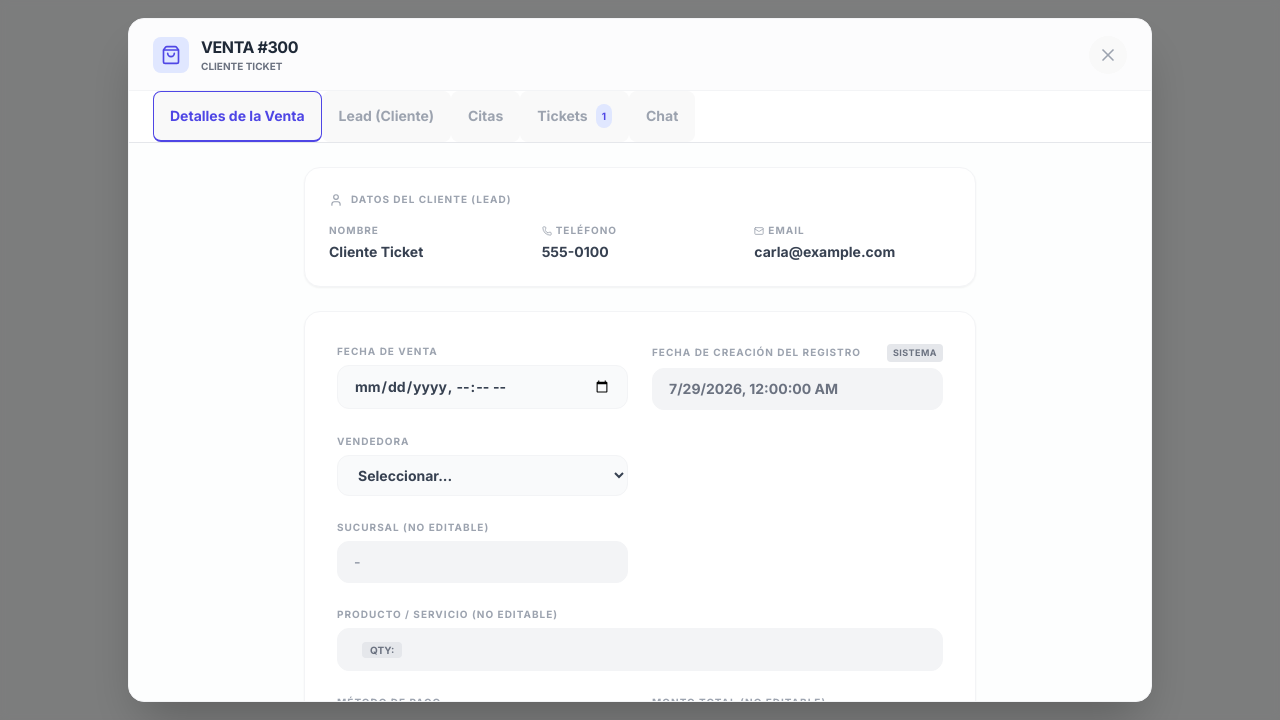
SaleModal — ticket assignment (shared authority) › creating a ticket from a sale locks it to that sale's own lead
Click the button "Tickets 1" at (575, 116), box [520,91,629,142]
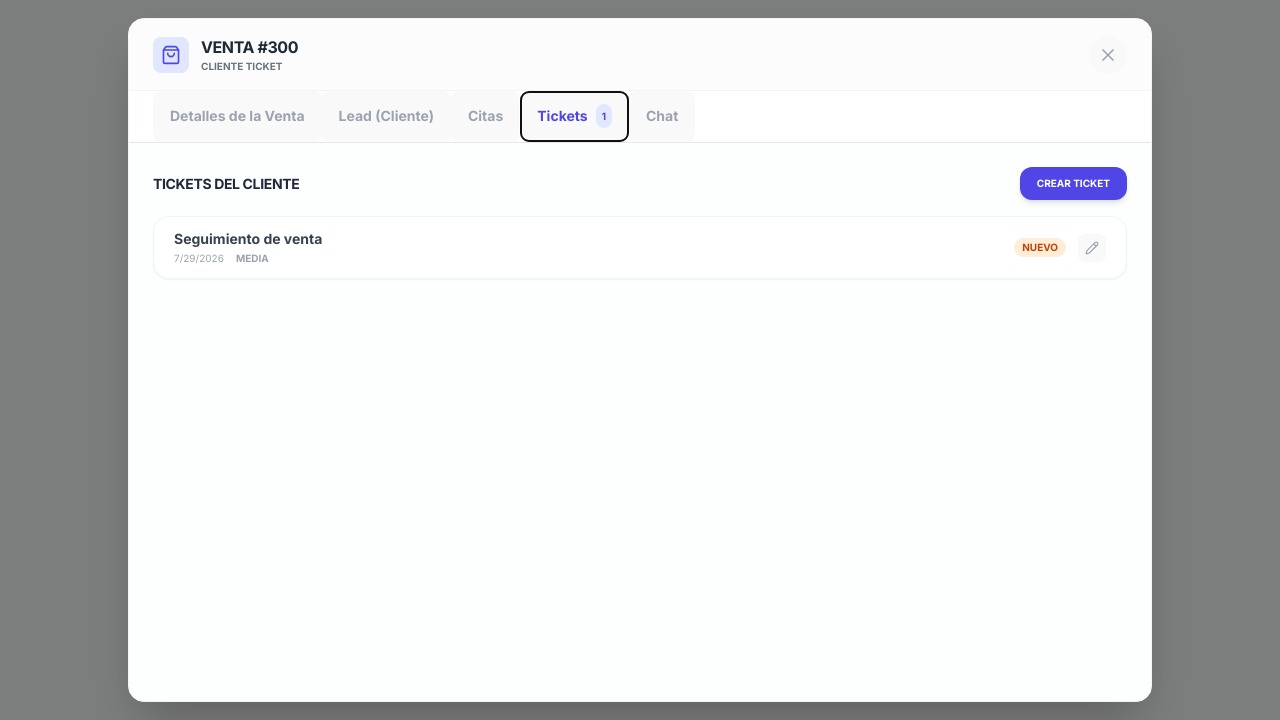
Click the button "Crear Ticket" at (1073, 184), box [1020,167,1127,200]
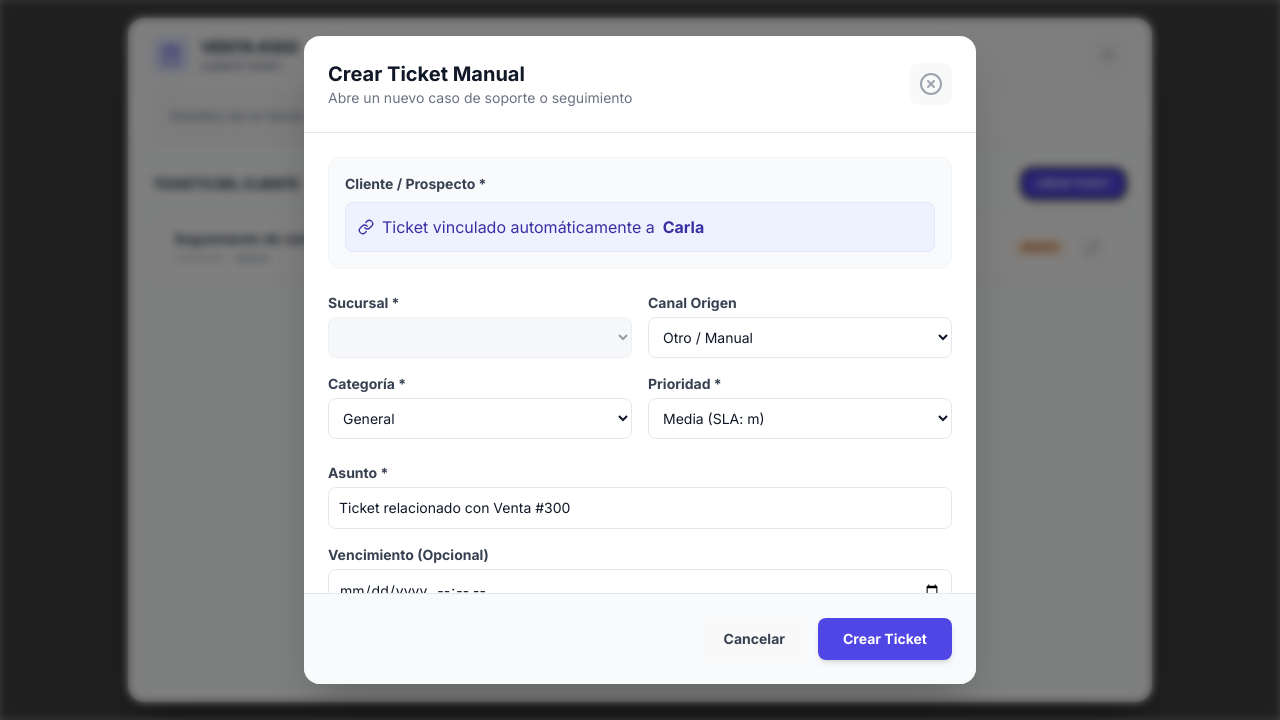
Expected: the text "Ticket vinculado automáticamente a Carla" is shown, [345,202,935,252]
Expected: the text "Carla" is shown, [663,215,704,239]
